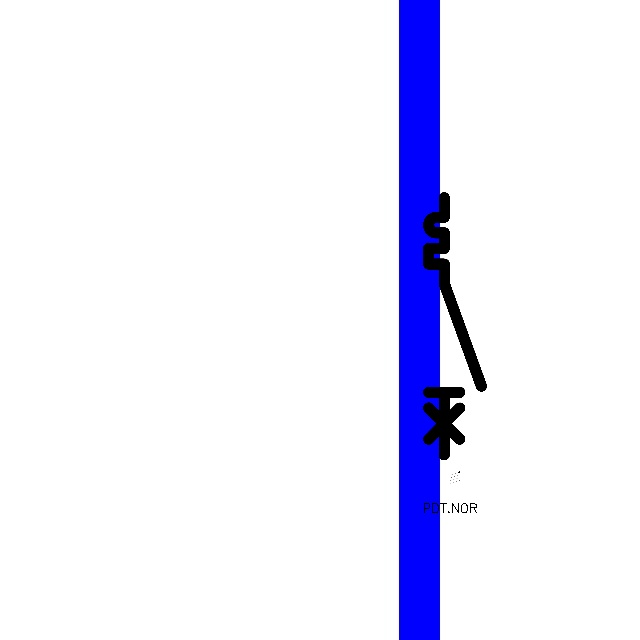interruptor_termomagnetico: (422, 191, 488, 461)
